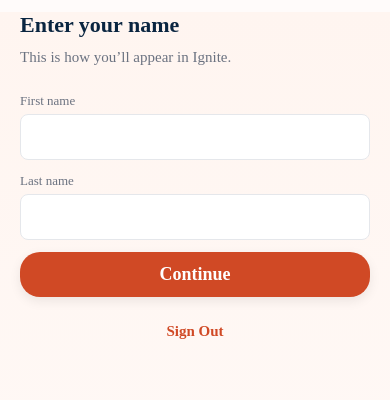
it: QuizzerNameScreen validation › requires first and last name before provisioning
The image size is (390, 400).
Step 1. Click the button with test id "quizzer-name-submit" → point(195, 274), box 20,252 -> 370,297
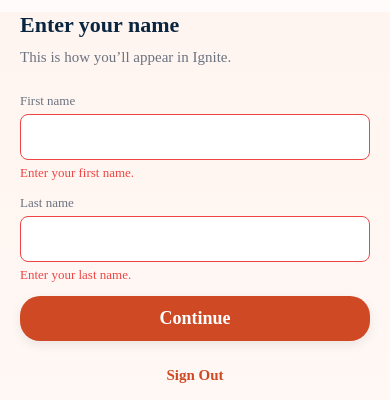
Result: the text "Enter your first name." is shown at 20,165 -> 134,180
Result: the text "Enter your last name." is shown at 20,267 -> 131,282
